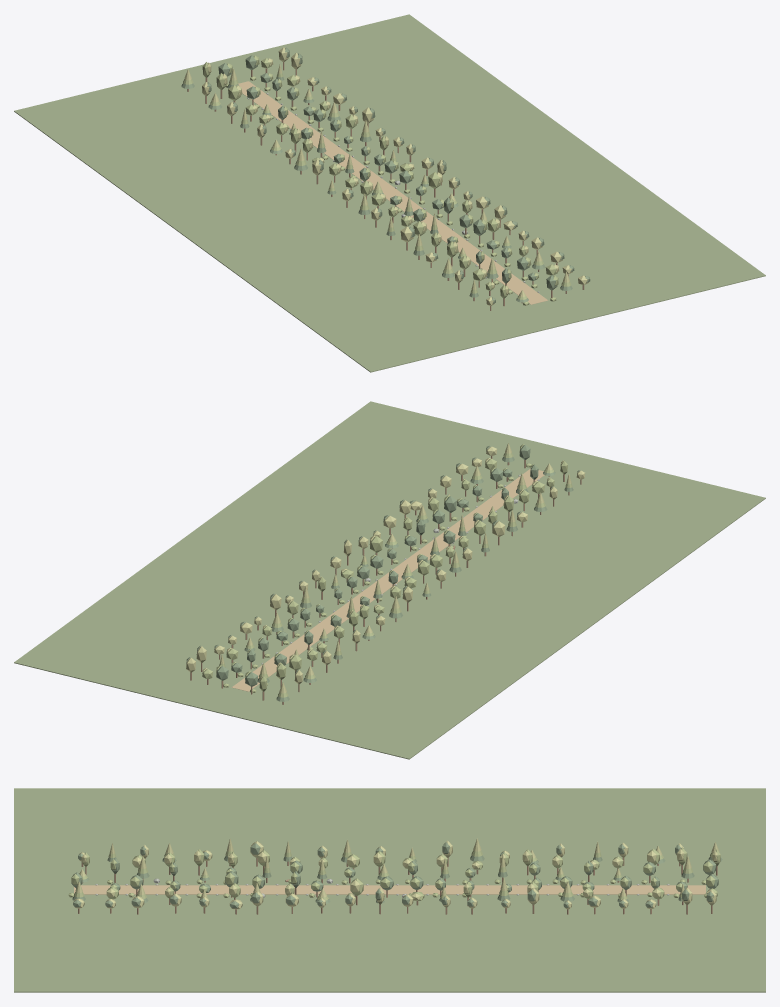
File: forest_morning_road.glb
The picture shows the model from 3 angles, top to bottom: view 1: azimuth 30°, elevation 25°; view 2: azimuth 150°, elevation 25°; view 3: azimuth 270°, elevation 25°; orthographic projection. The views are drawn at different scales.
Parts seen in each view (by area): view 1: Static.Forest.ground, Static.Leaf.middle, Static.Leaf.deep, Static.Leaf.light, Static.Trail, Static.Wood; view 2: Static.Forest.ground, Static.Leaf.middle, Static.Leaf.deep, Static.Leaf.light, Static.Trail, Static.Wood; view 3: Static.Forest.ground, Static.Leaf.middle, Static.Leaf.light, Static.Leaf.deep, Static.Trail, Static.Wood.
Boxes of the visible parts, x1,y1,x2,y2 form: Static.Forest.ground: (14,14,765,372); Static.Leaf.middle: (183,55,571,305); Static.Leaf.deep: (181,47,590,303); Static.Leaf.light: (184,47,588,305); Static.Trail: (238,81,547,304); Static.Wood: (187,62,584,310); Static.Forest.ground: (14,401,765,759); Static.Leaf.middle: (202,444,572,697); Static.Leaf.deep: (186,444,580,701); Static.Leaf.light: (186,443,585,693); Static.Trail: (232,469,544,691); Static.Wood: (190,456,581,704); Static.Forest.ground: (14,788,765,992); Static.Leaf.middle: (68,847,720,900); Static.Leaf.light: (73,838,719,909); Static.Leaf.deep: (71,842,722,908); Static.Trail: (74,885,705,894); Static.Wood: (76,857,717,914).
Bounding box in the file's own units: 64 × 4.22 × 100.
